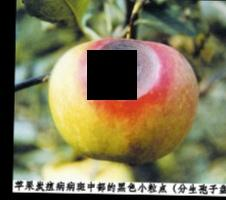rotten apple: (44, 34, 199, 160)
